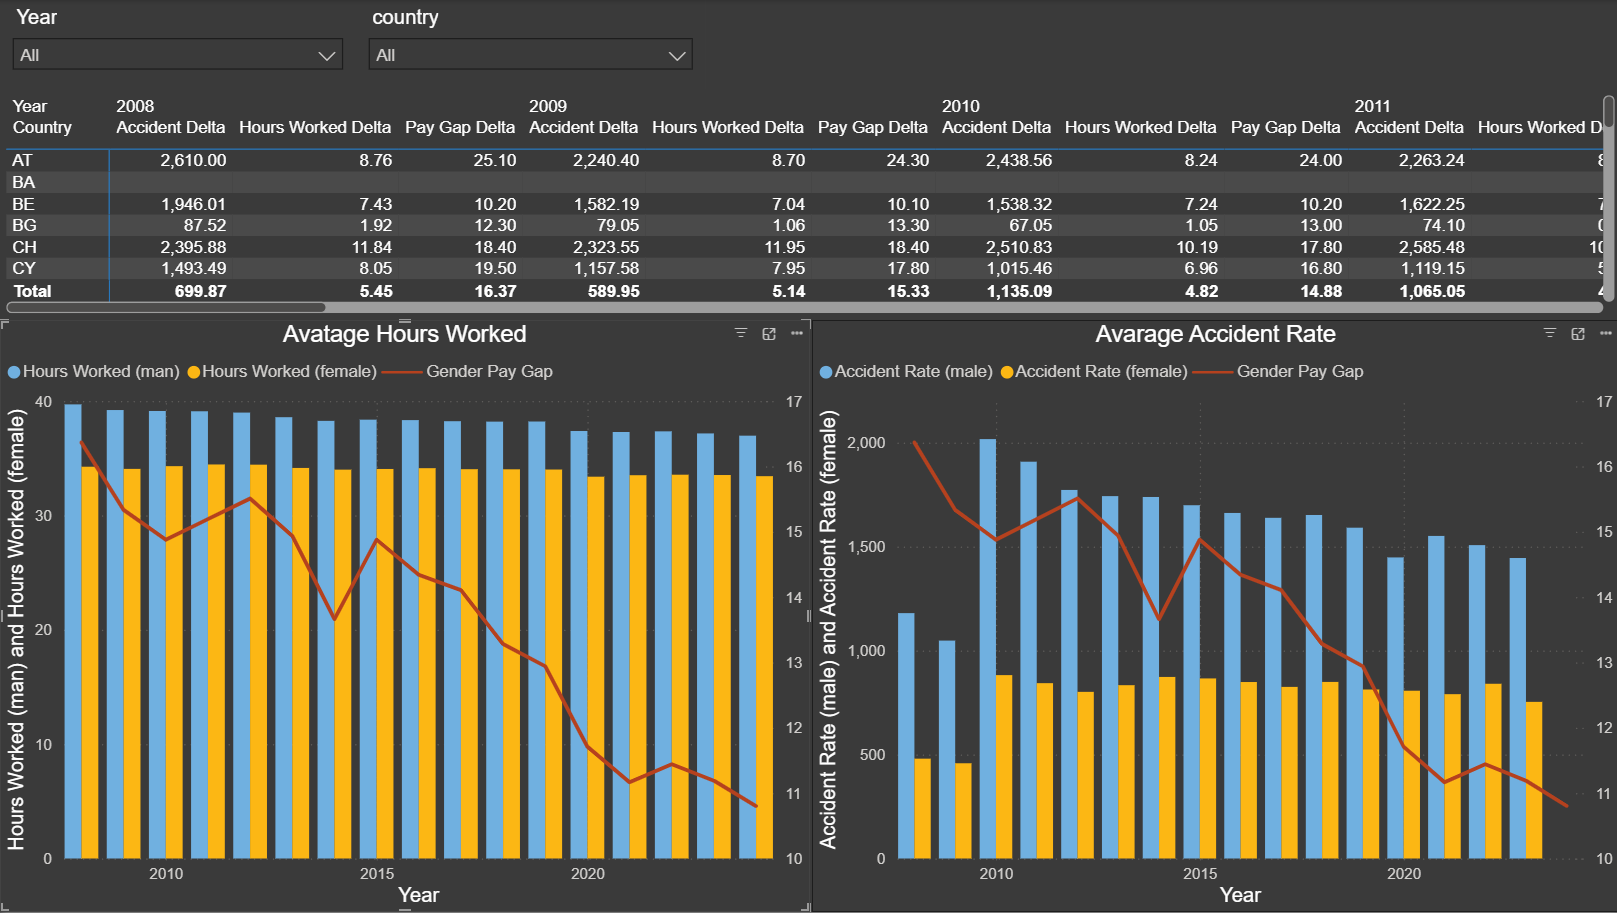

Layout of this report page (visuals, bound fields, positions):
{"tool":"powerbi","page":{"name":"Page 1","canvas":[1280,720],"ordinal":0},"visuals":[{"type":"pivotTable","fields":{"Rows":["gender_gap.country"],"Values":["gender_gap.accident_delta","Avg(gender_gap.hours_worked_delta)","Avg(gender_gap.gender_pay_gap)"],"Columns":["gender_gap.year"]},"box":[0,70.2,1280.2,182.2],"z":0},{"type":"slicer","fields":{"Values":["year.Year"]},"box":[0,0,280.8,70.2],"z":1000},{"type":"slicer","fields":{"Values":["country.country"]},"box":[280.8,0,276.3,70.2],"z":2000},{"type":"lineClusteredColumnComboChart","title":"Avatage Hours Worked","fields":{"Category":["gender_gap.year"],"Y":["Avg(gender_gap.hours_worked_m)","Avg(gender_gap.hours_worked_f)"],"Y2":["Avg(gender_gap.gender_pay_gap)"]},"box":[0,252.4,639.3,467.6],"z":3000},{"type":"lineClusteredColumnComboChart","title":"Avarage Accident Rate","fields":{"Category":["gender_gap.year"],"Y":["gender_gap.accident_rate_m","gender_gap.accident_rate_f"],"Y2":["Avg(gender_gap.gender_pay_gap)"]},"box":[640.8,252.4,637.8,467.6],"z":4000}]}

Visuals, with their boxes in screenshot pixels (x1, y1, x2, y2), scaled from the page's 1280x720 canvas onto the 1617x913 screenshot:
pivotTable - gender_gap.country x gender_gap.accident_delta: bbox=(0, 89, 1616, 320)
slicer - year.Year: bbox=(0, 0, 355, 89)
slicer - country.country: bbox=(355, 0, 704, 89)
"Avatage Hours Worked" lineClusteredColumnComboChart: bbox=(0, 320, 808, 912)
"Avarage Accident Rate" lineClusteredColumnComboChart: bbox=(810, 320, 1615, 912)
